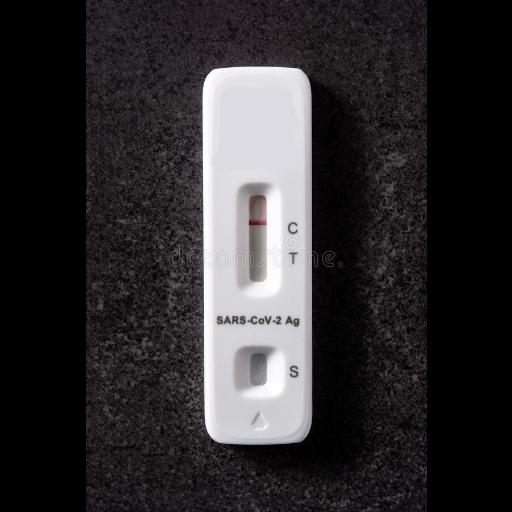Neg: (202, 68, 310, 444)
